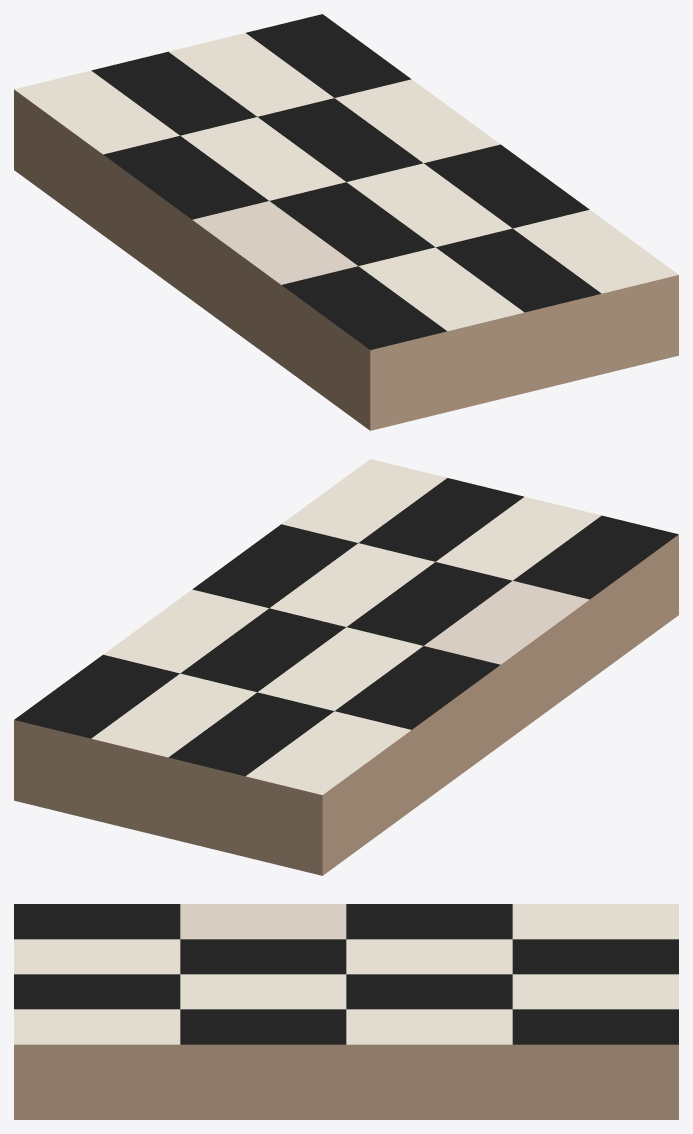
The model's file is FinishObj.fbx.
The picture shows the model from 3 angles, top to bottom: view 1: azimuth 30°, elevation 25°; view 2: azimuth 150°, elevation 25°; view 3: azimuth 270°, elevation 25°; orthographic projection. The views are drawn at different scales.
Visible parts, largest first — view 1: Cube; view 2: Cube; view 3: Cube.
Part boxes in pixels (x1=…): Cube: x1=14, y1=14, x2=678, y2=430; Cube: x1=14, y1=459, x2=678, y2=875; Cube: x1=14, y1=904, x2=678, y2=1119.
Size of the model in its own units: 400 by 100 by 800.
